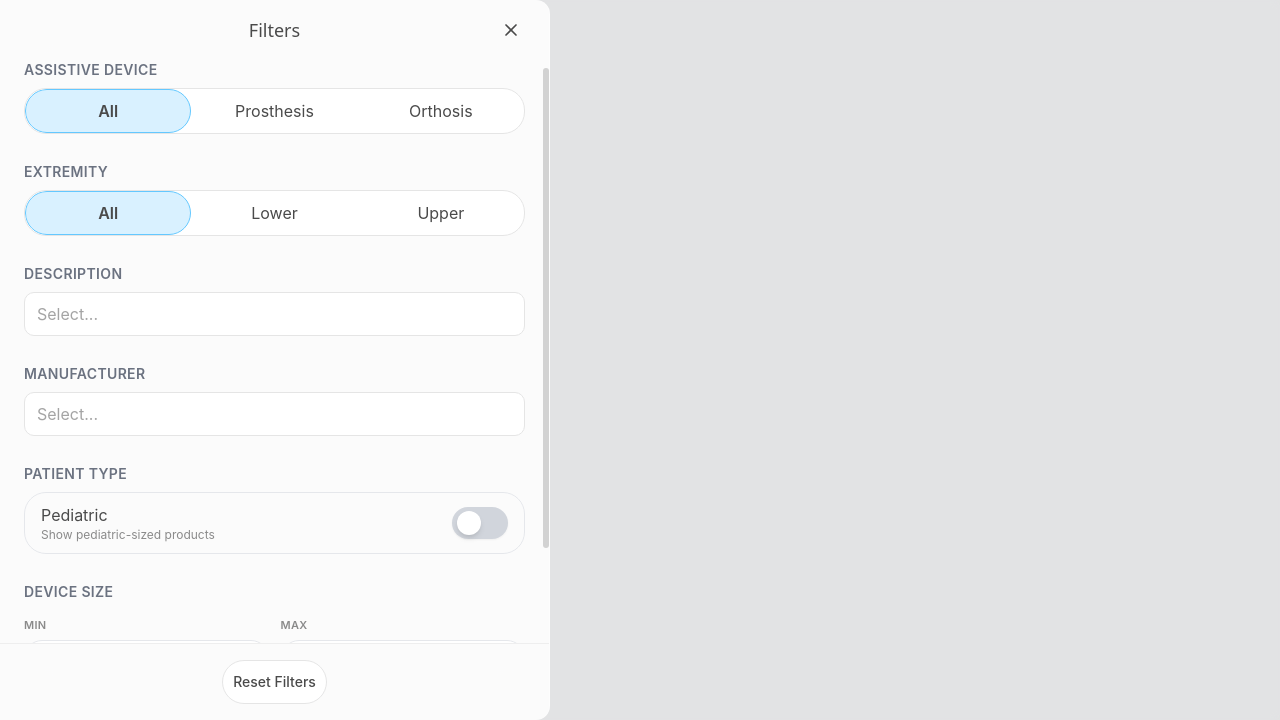
Scenario: SideBar Parts + leg diagram gating › shows Parts and the leg diagram only for the Lower extremity
Click the button "Prosthesis" at (274, 111), box [191,89,358,133]
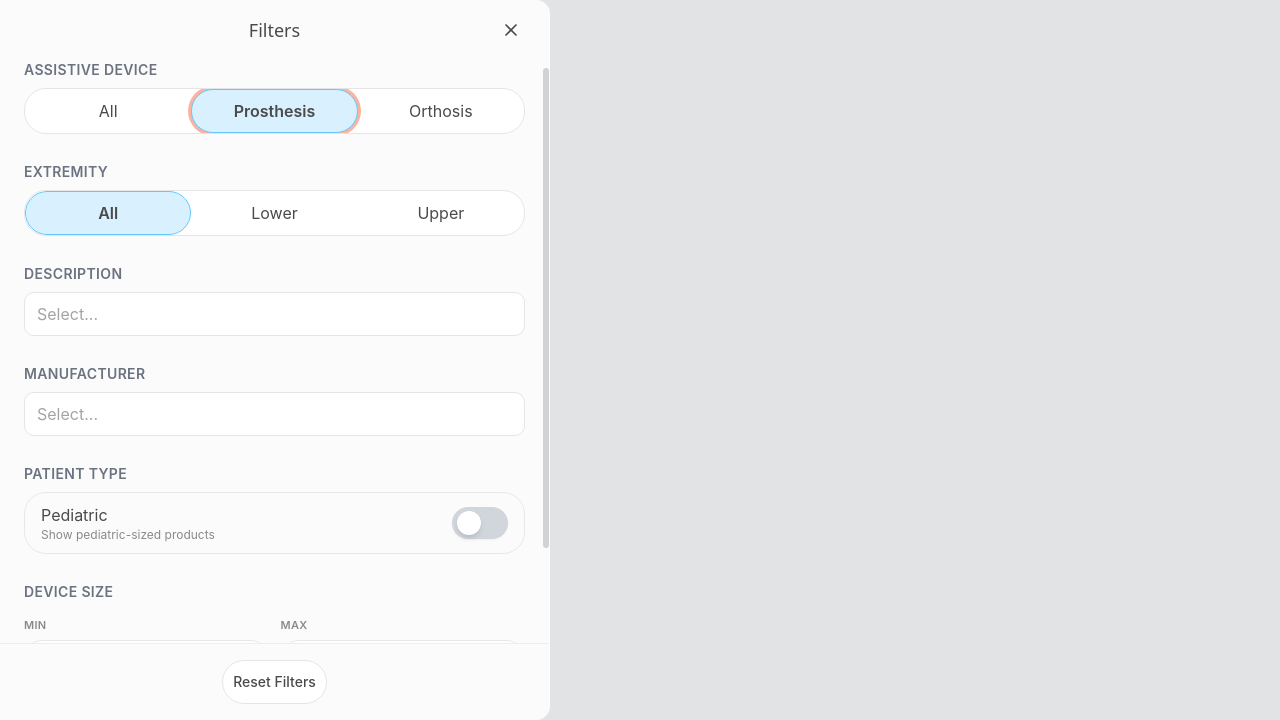
Click the button "Lower" at (274, 213), box [191,191,358,235]
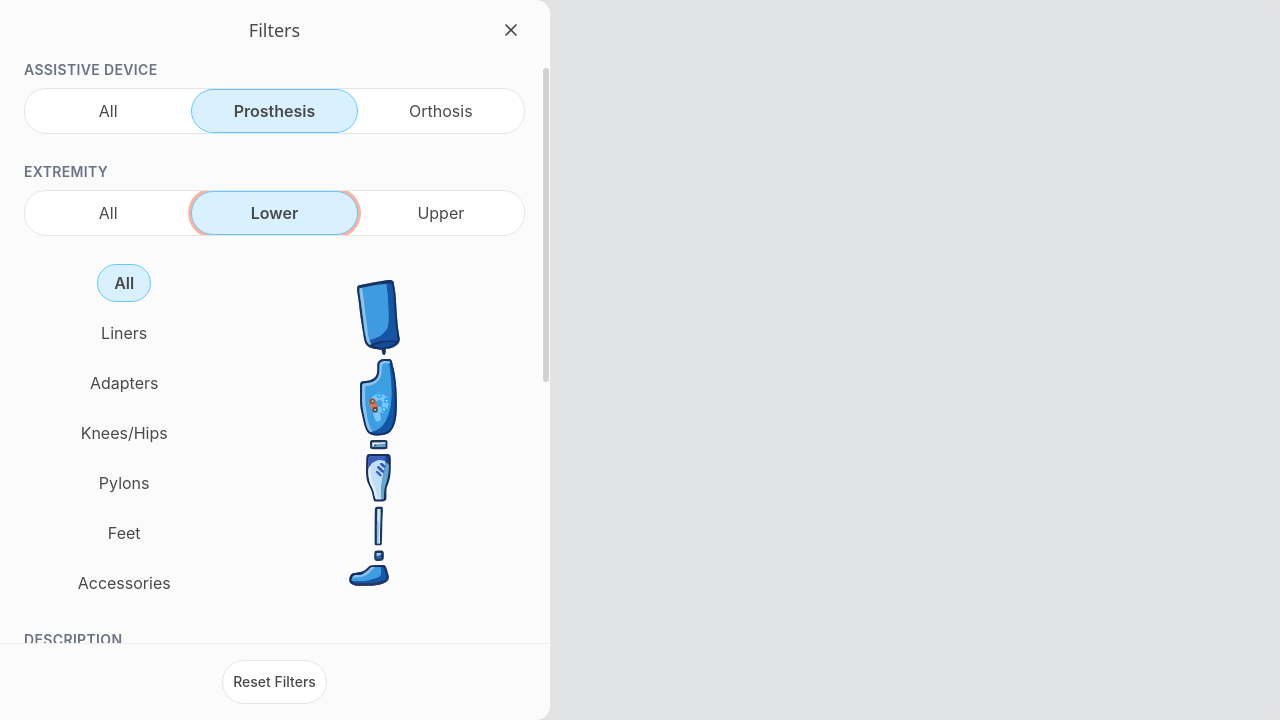
Expected: the button "Liners" is shown, [84,314,164,352]
Expected: the element named "lower extremity" is shown, [349,280,400,586]
Bidirectional: clicking a leg part selects the matching Parts filter.
Click the button named "Select Feet" at (369, 575), box [349,565,389,586]
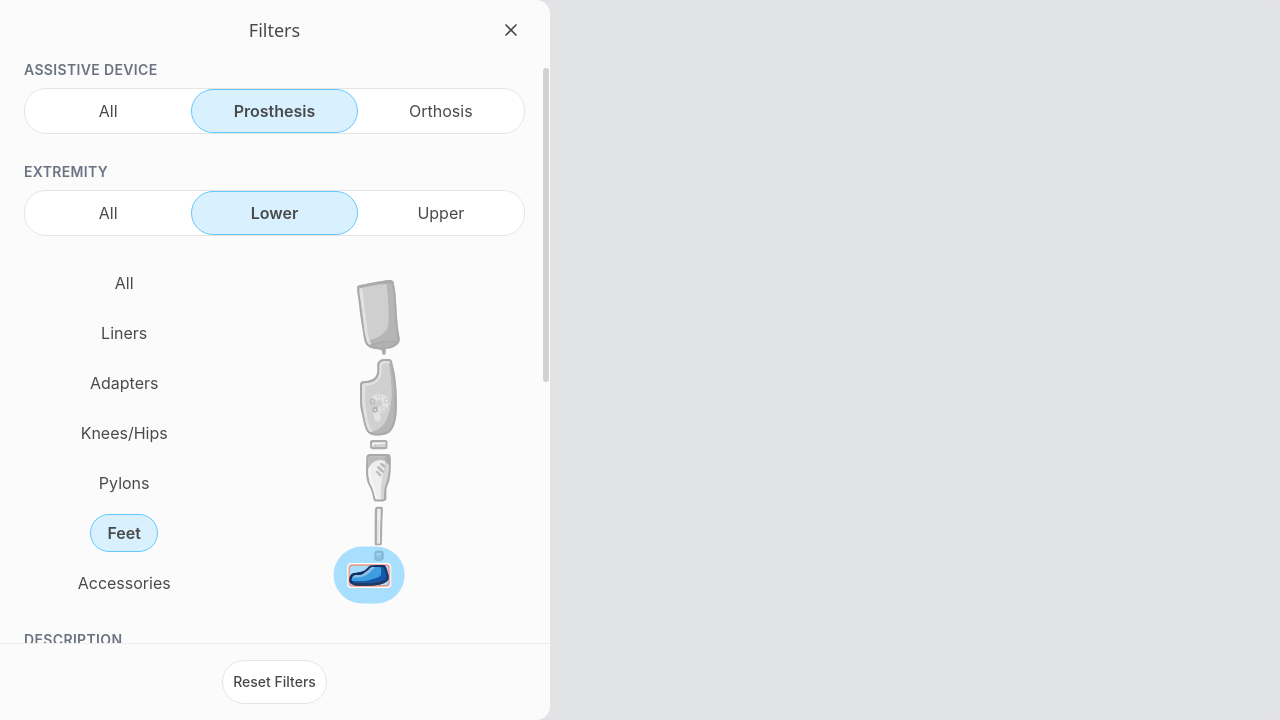
Expected: the button "Feet" is pressed, [90,514,158,552]
Switching to Upper hides both again.
Click the button "Upper" at (441, 213), box [358,191,524,235]
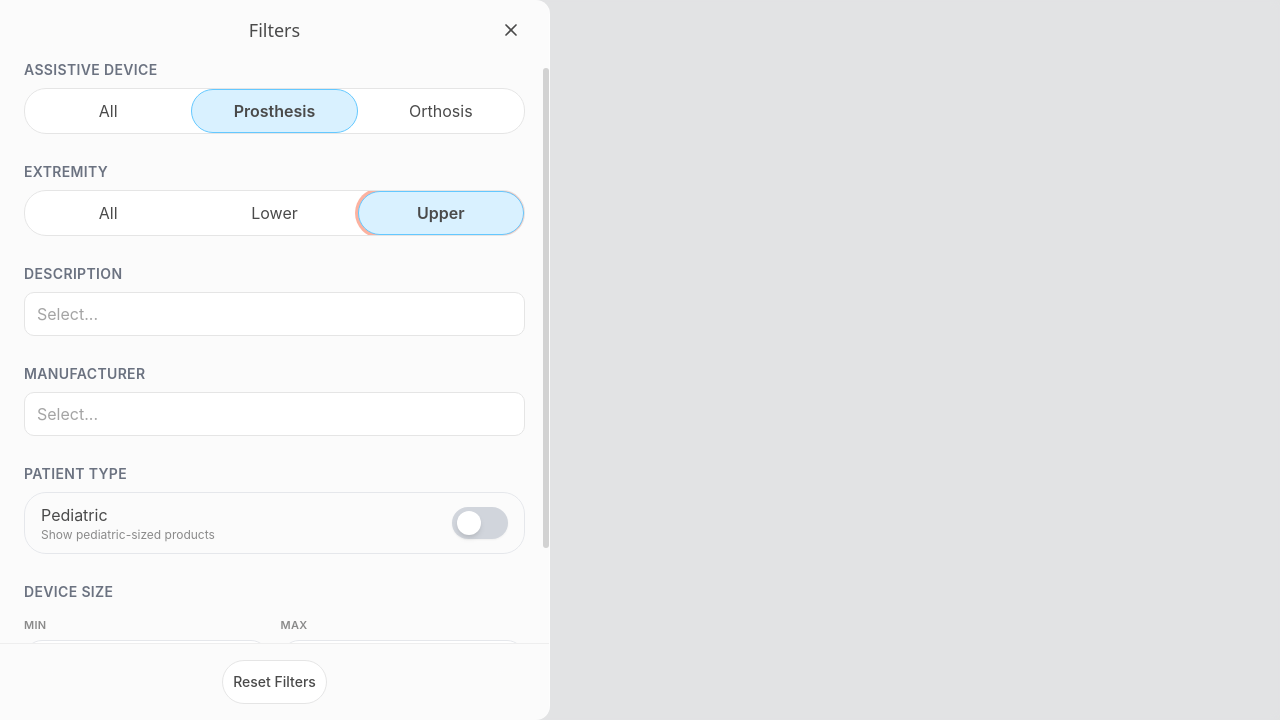
Expected: the button "Liners" is gone
